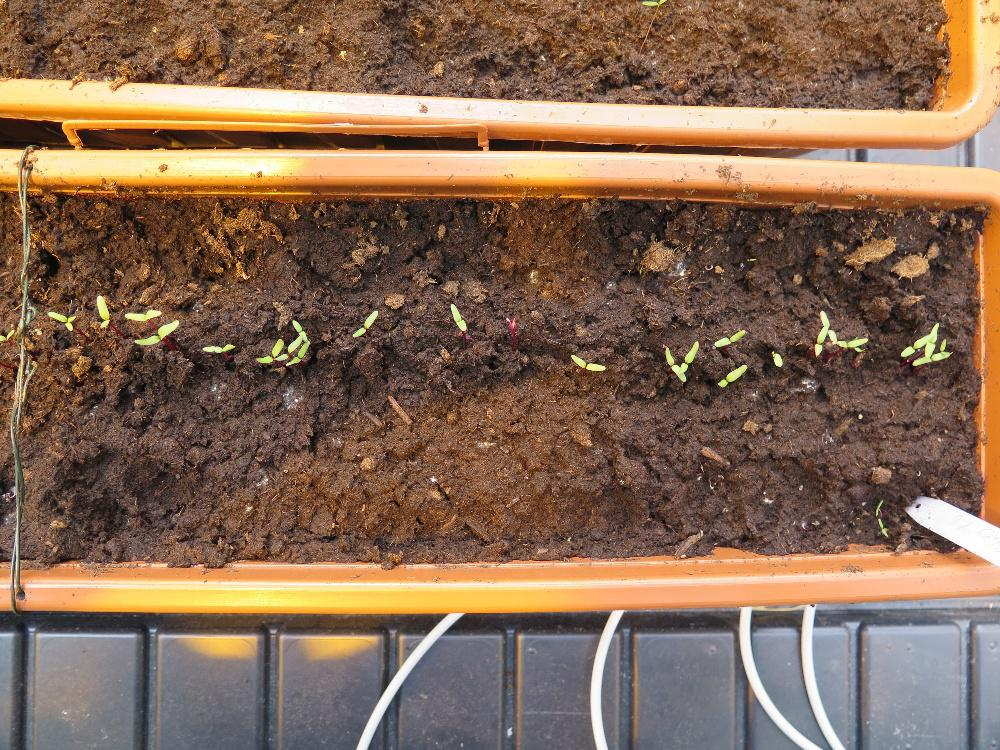crop: (716, 361, 747, 389), (351, 306, 378, 338), (570, 351, 606, 372), (711, 326, 745, 348), (448, 300, 467, 334), (121, 307, 161, 322), (94, 292, 109, 328)
weed: (877, 515, 888, 537)
